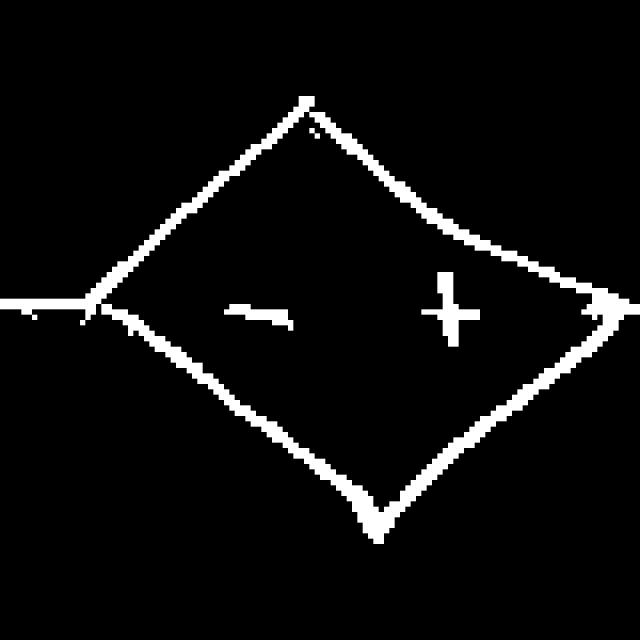dependant_voltage: (84, 107, 616, 539)
